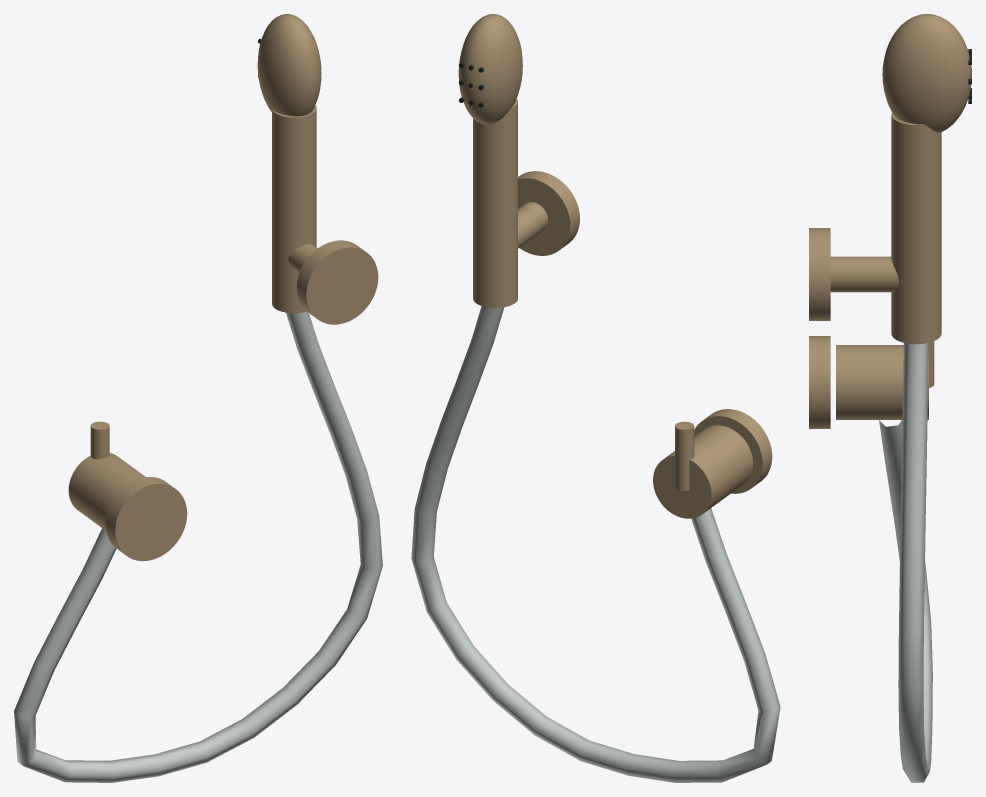
File: bath-bidet-spray.glb
The picture shows the model from 3 angles, left to right: view 1: azimuth 30°, elevation 25°; view 2: azimuth 150°, elevation 25°; view 3: azimuth 270°, elevation 25°; orthographic projection. The views are drawn at different scales.
Parts seen in each view (by area): view 1: bronze_surfaces, steel_surfaces; view 2: bronze_surfaces, steel_surfaces; view 3: bronze_surfaces, steel_surfaces.
Part boxes in pixels (bbox=[...]): bronze_surfaces: bbox=[68, 14, 378, 561]; steel_surfaces: bbox=[14, 311, 382, 782]; bronze_surfaces: bbox=[458, 14, 772, 518]; steel_surfaces: bbox=[411, 306, 780, 782]; bronze_surfaces: bbox=[809, 14, 971, 428]; steel_surfaces: bbox=[879, 343, 932, 782].
Size of the model in its own units: 0.2618 by 0.4984 by 0.091.
